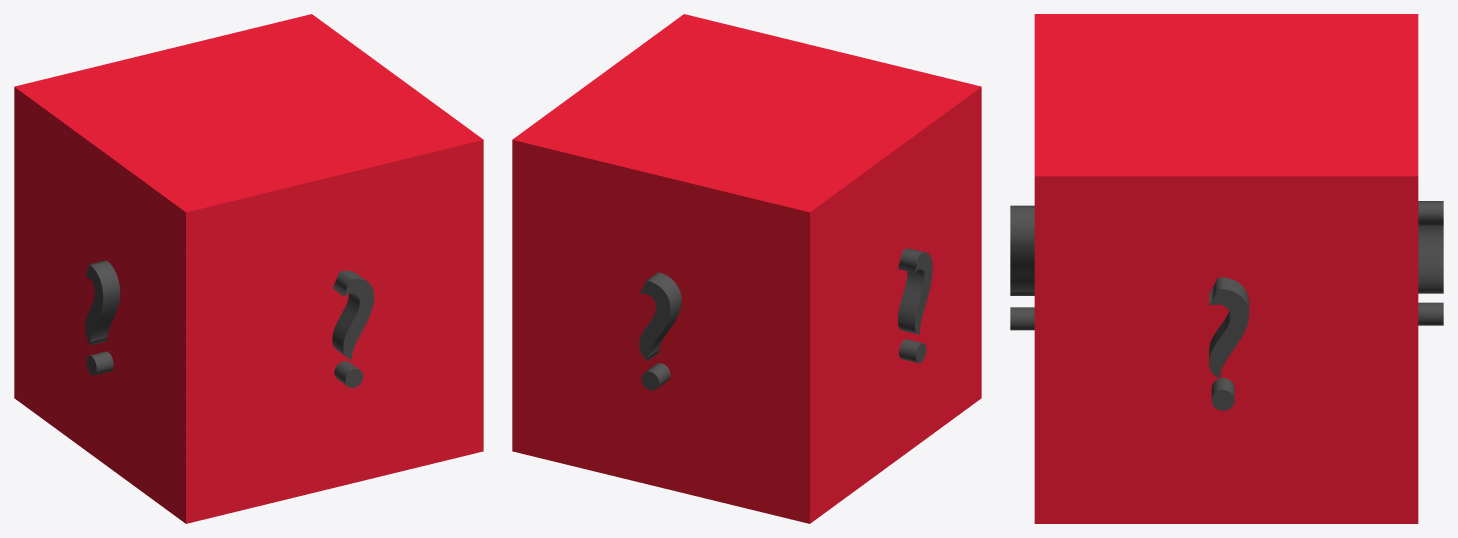
File: godly.glb
The picture shows the model from 3 angles, left to right: view 1: azimuth 30°, elevation 25°; view 2: azimuth 150°, elevation 25°; view 3: azimuth 270°, elevation 25°; orthographic projection. The views are drawn at different scales.
Parts seen in each view (by area): view 1: Cube, Text.002, Text.007, Text.003, Text.006; view 2: Cube, Text.002, Text.005, Text.001; view 3: Cube, Text, Text.001, Text.007, Text.003, Text.004.
Part boxes in pixels (x1,y1,x2,y2): Cube: (14,14,483,523); Text.002: (85,260,120,375); Text.007: (332,270,374,387); Text.003: (332,271,373,387); Text.006: (90,261,119,374); Cube: (512,14,981,523); Text.002: (898,248,932,363); Text.005: (639,272,681,390); Text.001: (639,272,670,390); Cube: (1034,14,1418,523); Text: (1209,277,1249,410); Text.001: (1418,204,1443,325); Text.007: (1010,205,1034,329); Text.003: (1010,211,1034,330); Text.004: (1211,286,1248,410).
Size of the model in its own units: 2.26 by 2 by 2.26.
